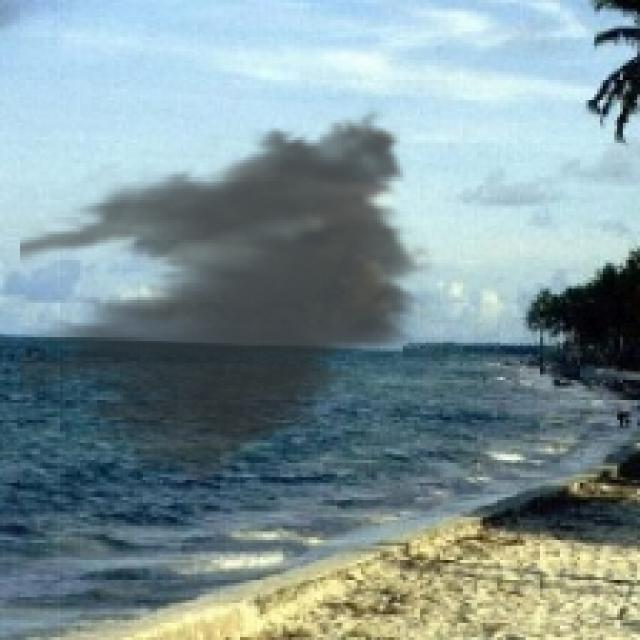smoke: (20, 100, 440, 494)
